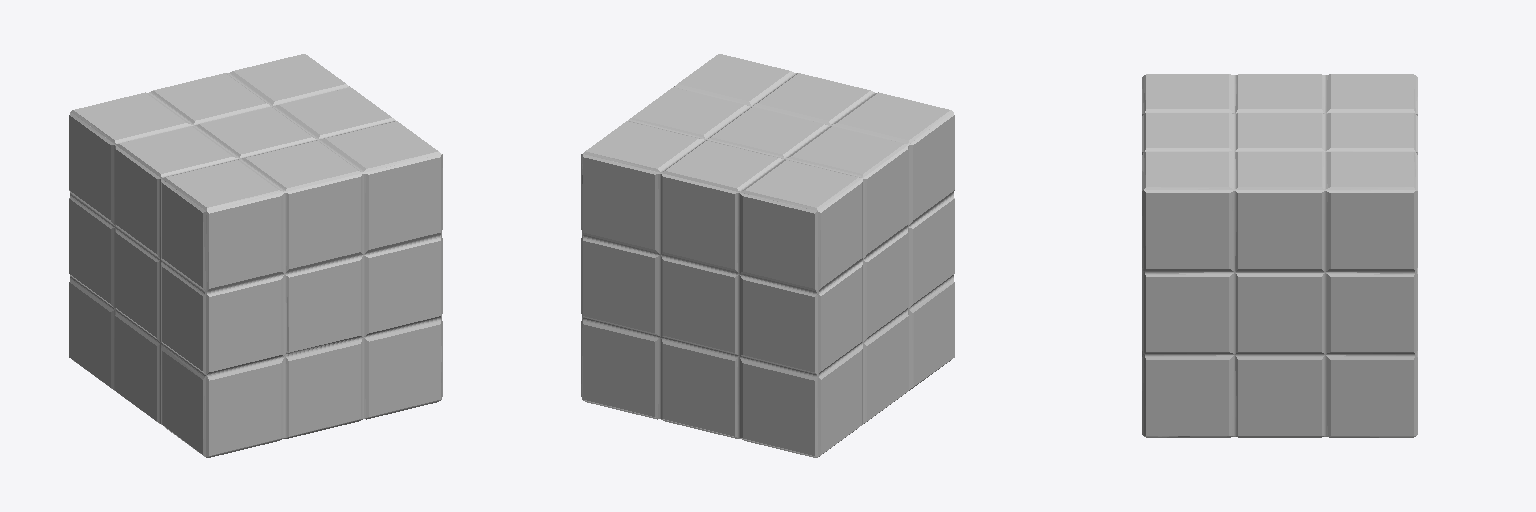
The model's file is RubiksCube.obj.
3 views of the same model, side by side, from view 1: azimuth 30°, elevation 25°; view 2: azimuth 150°, elevation 25°; view 3: azimuth 270°, elevation 25° (orthographic).
Visible parts, largest first — view 1: Box01; view 2: Box01; view 3: Box01.
Boxes of the visible parts, <box> form: Box01: <box>69,54,442,457</box>; Box01: <box>581,54,954,457</box>; Box01: <box>1142,74,1417,437</box>.
Size of the model in its own units: 3.47 by 3.47 by 3.47.